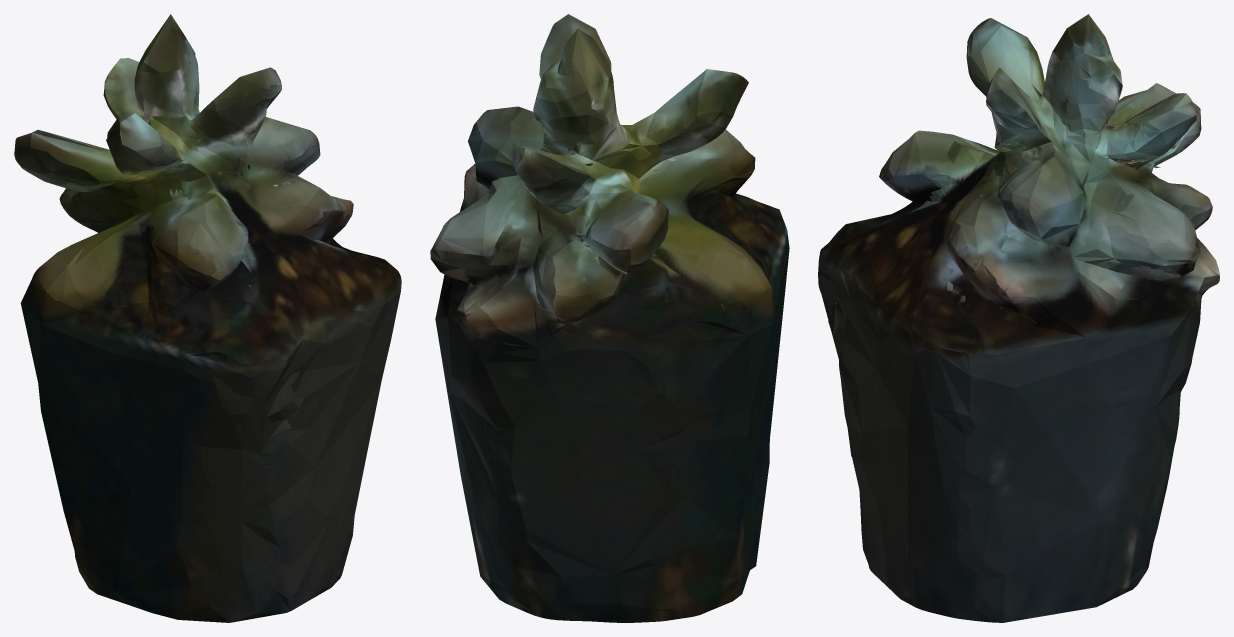
Rendered from model_New Qlone_lp_20210616_132003060.obj.
The picture shows the model from 3 angles, left to right: view 1: azimuth 30°, elevation 25°; view 2: azimuth 150°, elevation 25°; view 3: azimuth 270°, elevation 25°; orthographic projection. The views are drawn at different scales.
Size of the model in its own units: 37.05 by 58.74 by 38.95.
1 material, 1 textured.
